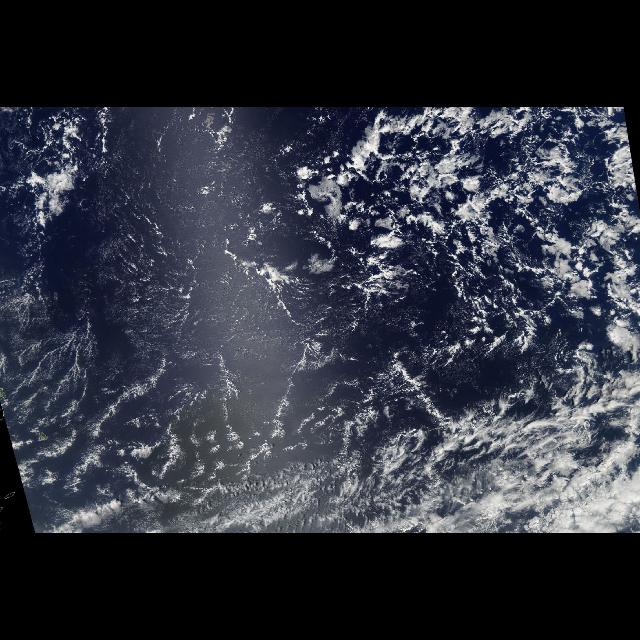Flower: (300, 126, 514, 280)
Gravel: (12, 372, 364, 478)
Sugar: (0, 107, 296, 463)
